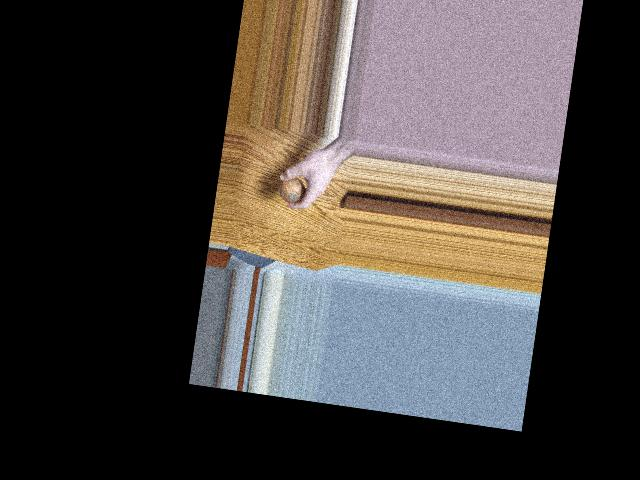onion: (278, 172, 310, 206)
